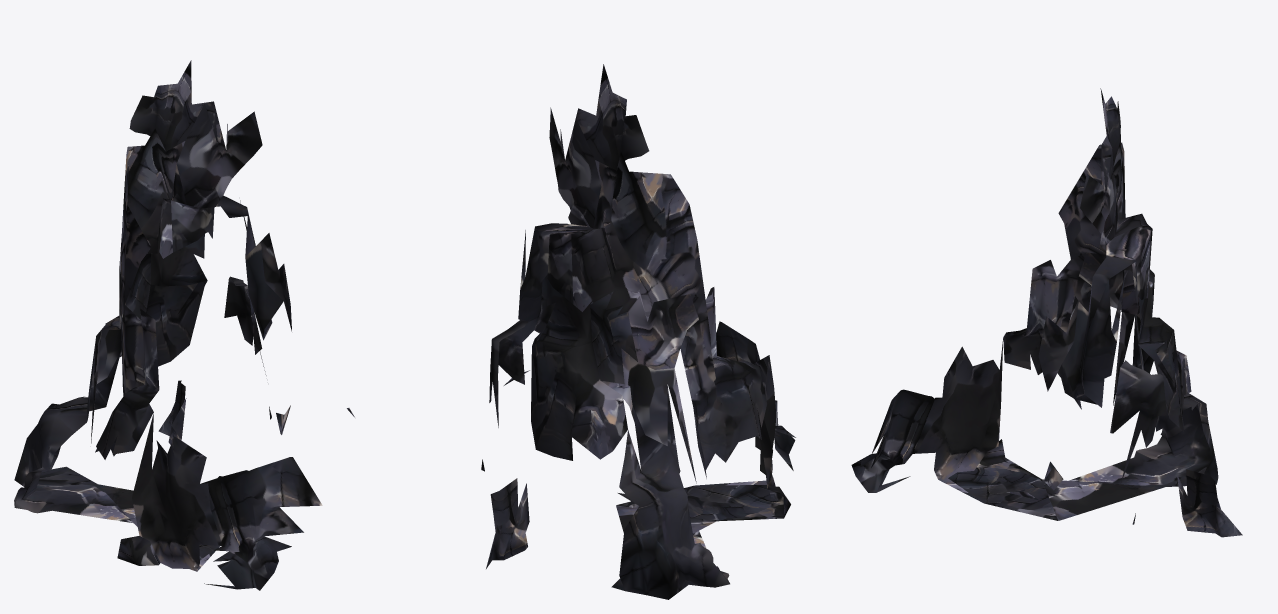
Rendered from RIP0 (2).obj.
3 renders of one model, left to right at view 1: azimuth 30°, elevation 25°; view 2: azimuth 150°, elevation 25°; view 3: azimuth 270°, elevation 25°, orthographic. The views are drawn at different scales.
Parts seen in each view (by area): view 1: RIP0; view 2: RIP0; view 3: RIP0.
Boxes of the visible parts, bbox=[...] form: RIP0: bbox=[14, 60, 354, 590]; RIP0: bbox=[481, 64, 795, 599]; RIP0: bbox=[851, 88, 1242, 537].
Size of the model in its own units: 0.7314 by 1 by 0.8151.
